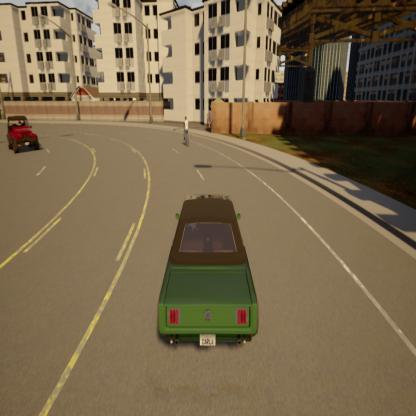Cars: (155, 184, 264, 364), (3, 110, 46, 162)
